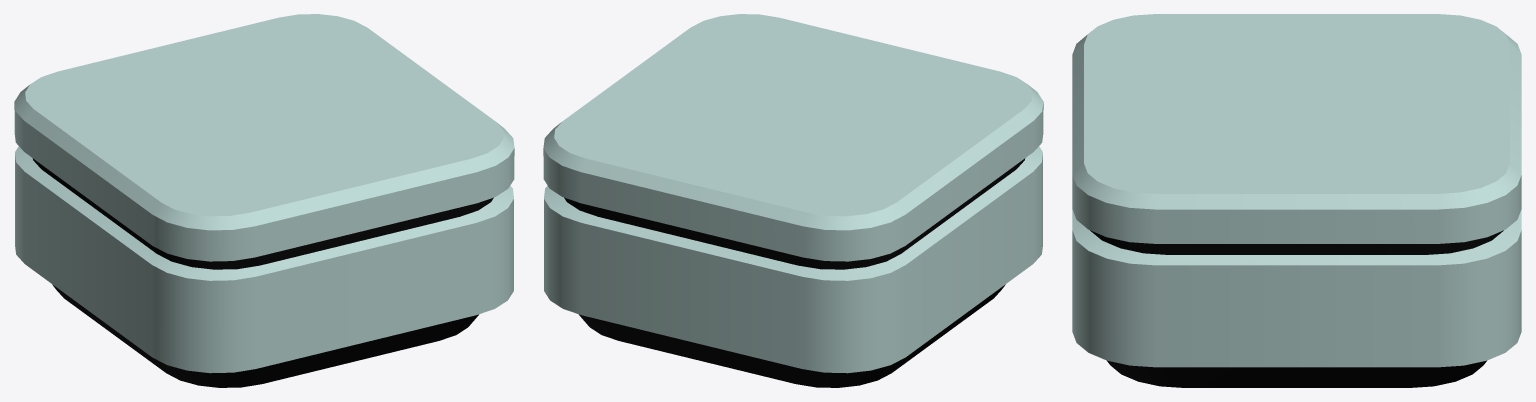
File: AGV_Center_01.gltf
The picture shows the model from 3 angles, left to right: view 1: azimuth 30°, elevation 25°; view 2: azimuth 150°, elevation 25°; view 3: azimuth 270°, elevation 25°; orthographic projection. The views are drawn at different scales.
Visible parts, largest first — view 1: AGV1; view 2: AGV1; view 3: AGV1.
Boxes of the visible parts, <box> form: AGV1: <box>14,14,514,387</box>; AGV1: <box>543,14,1043,387</box>; AGV1: <box>1072,14,1521,387</box>.
Size of the model in its own units: 0.6026 by 0.3013 by 0.6026.
